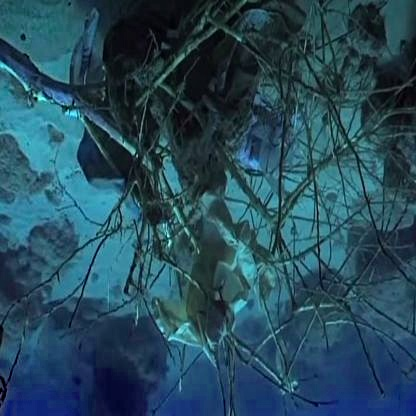plastic: (134, 59, 280, 375)
